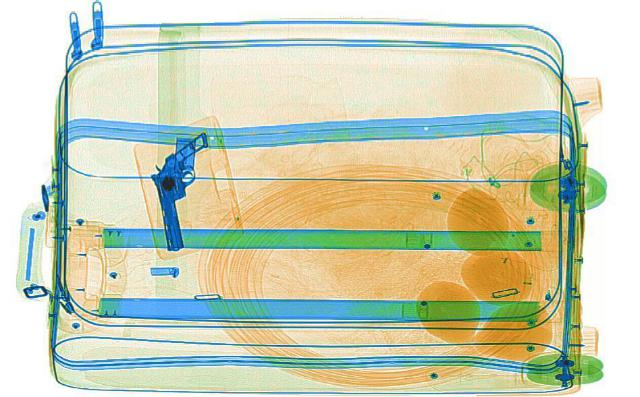Gun: (141, 130, 233, 251)
